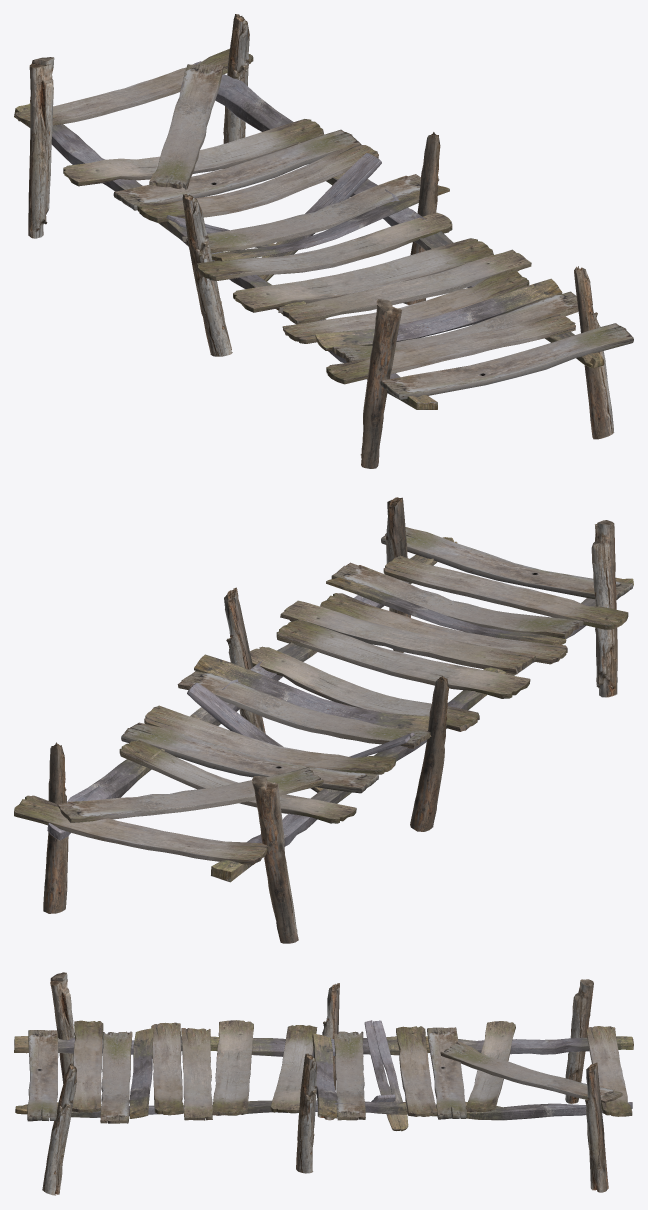
File: sm_WoodPlank_01_02_bridge.fbx
3 renders of one model, top to bottom at view 1: azimuth 30°, elevation 25°; view 2: azimuth 150°, elevation 25°; view 3: azimuth 270°, elevation 25°, orthographic. The views are drawn at different scales.
Visible parts, largest first — view 1: sm_WoodPlank_01_02_bridge_LOD0; view 2: sm_WoodPlank_01_02_bridge_LOD0; view 3: sm_WoodPlank_01_02_bridge_LOD0.
Boxes of the visible parts, <box> form: sm_WoodPlank_01_02_bridge_LOD0: <box>14,14,633,468</box>; sm_WoodPlank_01_02_bridge_LOD0: <box>14,497,633,943</box>; sm_WoodPlank_01_02_bridge_LOD0: <box>14,972,633,1195</box>.
Bounding box in the file's own units: 171 × 443 × 112.
